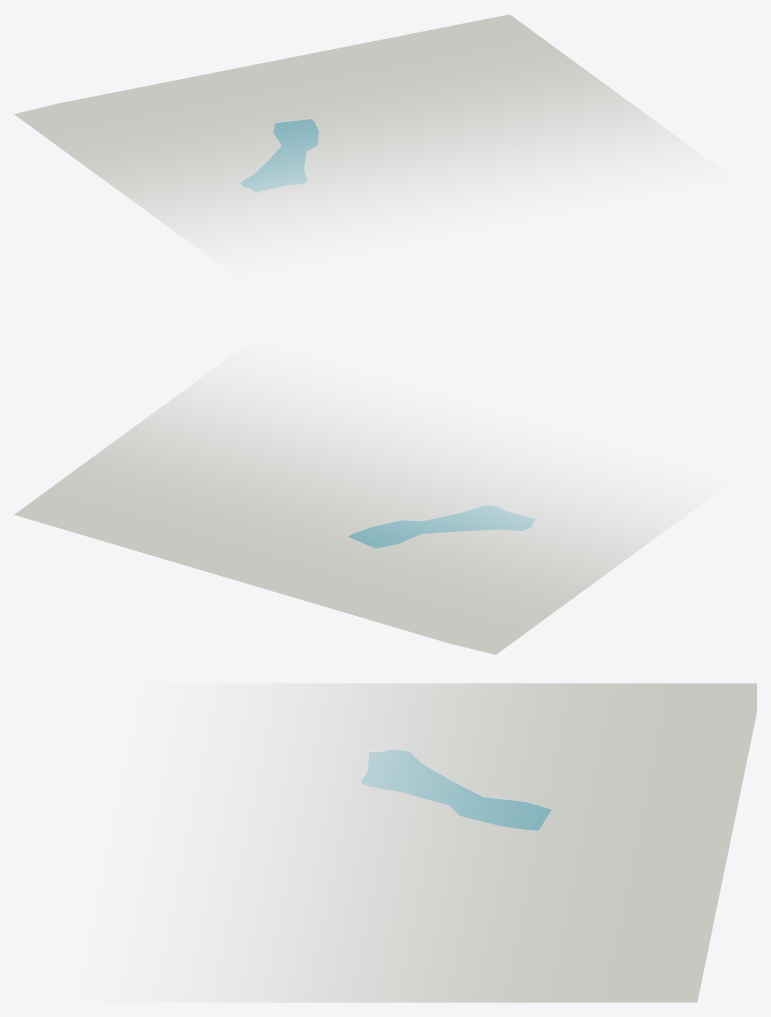
3 renders of one model, top to bottom at view 1: azimuth 30°, elevation 25°; view 2: azimuth 150°, elevation 25°; view 3: azimuth 270°, elevation 25°, orthographic. The views are drawn at different scales.
Visible parts, largest first — view 1: city; view 2: city; view 3: city.
Boxes of the visible parts, bbox=[...] form: city: bbox=[14, 14, 700, 252]; city: bbox=[14, 365, 697, 654]; city: bbox=[165, 683, 756, 1002].
Size of the model in its own units: 500 by 0.18 by 491.
